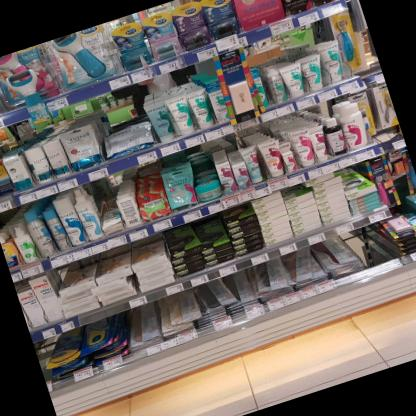empty_space: (367, 238, 393, 271)
